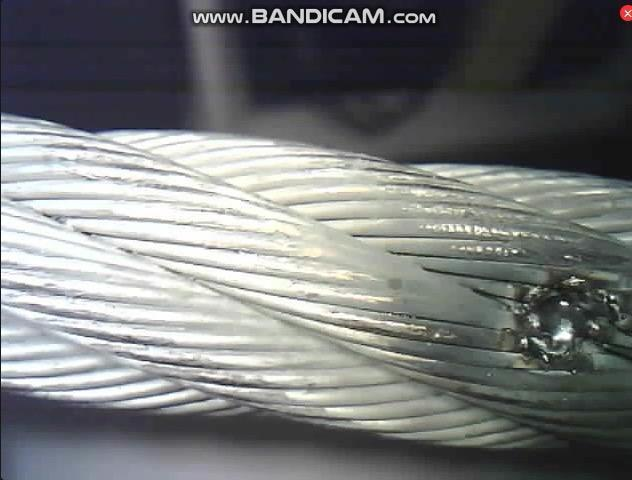thunderbolt: (469, 245, 630, 379)
